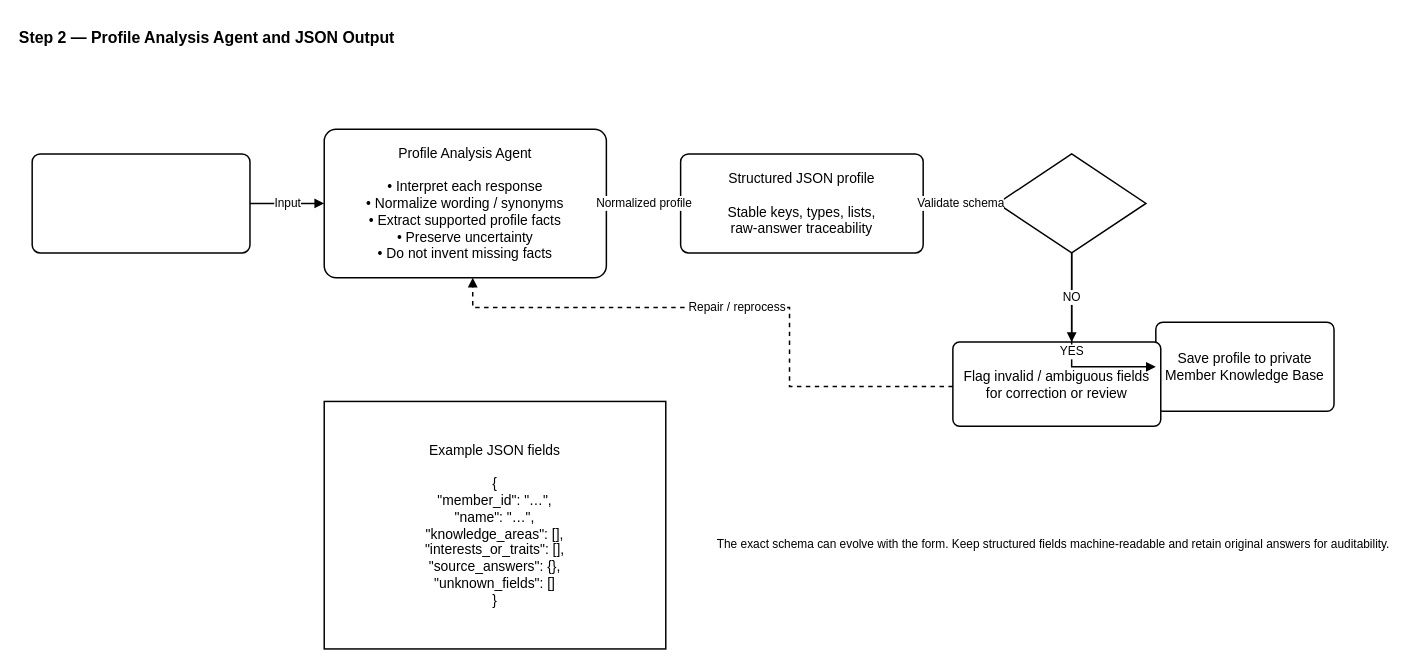
Image size: 1406x666. Some labels were removed from this diagram. The shapes that lost their labels are listed below. From the top down, each one's centre as x and y in pixels, then its label:
At point 140,203: "Raw form submission Member name + free-text and selected-field answers".
At point 1071,203: "JSON/schema valid?".
